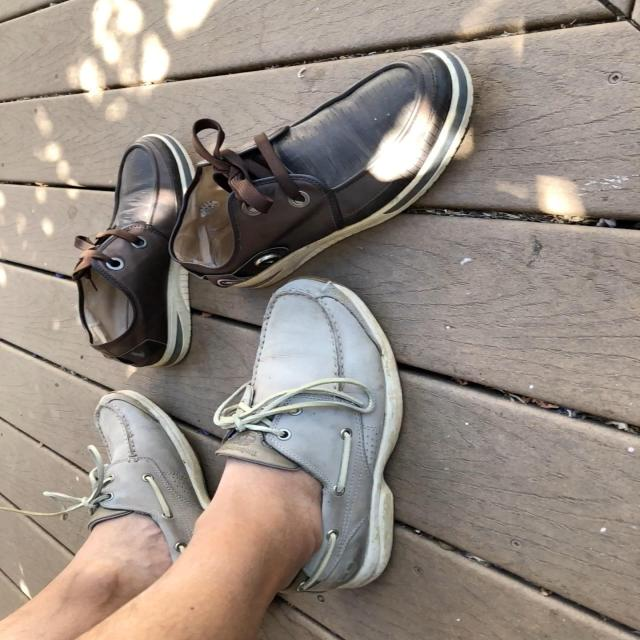shoe: (186, 48, 461, 298), (208, 281, 407, 600), (80, 133, 193, 376), (82, 391, 201, 582)
